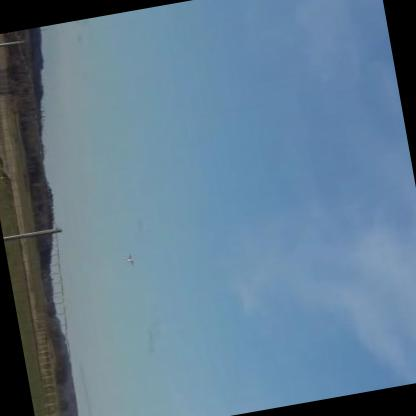plane: (124, 254, 134, 269)
